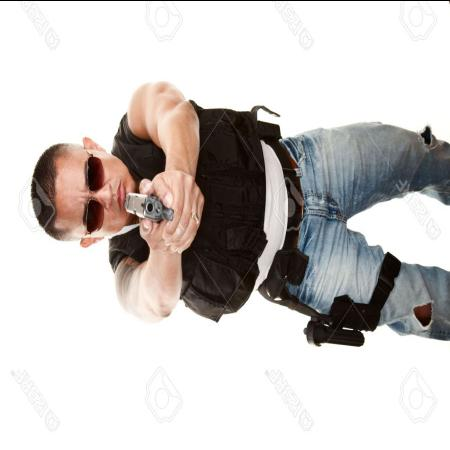Pistol: (122, 185, 176, 228)
